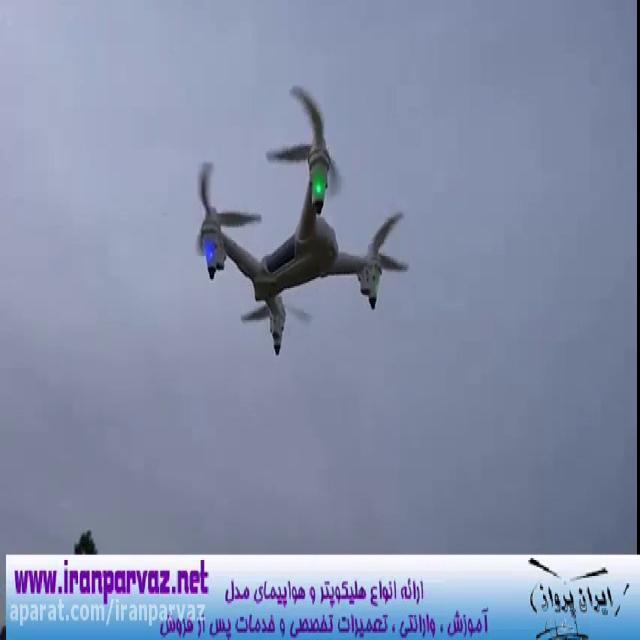drone: (191, 78, 411, 359)
